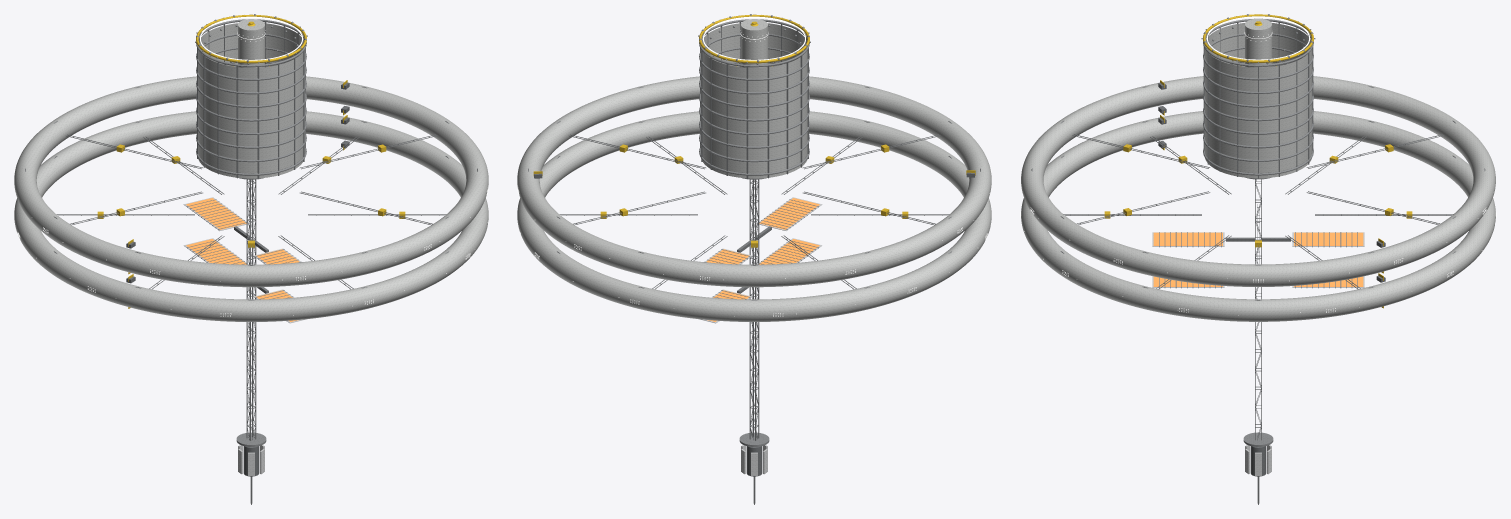
Rendered from meridian.glb.
The picture shows the model from 3 angles, left to right: view 1: azimuth 30°, elevation 25°; view 2: azimuth 150°, elevation 25°; view 3: azimuth 270°, elevation 25°; orthographic projection.
Visible parts, largest first — view 1: Meridian_Wheel, Meridian_Hub; view 2: Meridian_Wheel, Meridian_Hub; view 3: Meridian_Wheel, Meridian_Hub.
Part boxes in pixels (box(x1,y1,x2,y2)): Meridian_Wheel: box(14, 76, 488, 321); Meridian_Hub: box(183, 14, 307, 504); Meridian_Wheel: box(517, 76, 991, 321); Meridian_Hub: box(698, 14, 822, 504); Meridian_Wheel: box(1020, 76, 1496, 321); Meridian_Hub: box(1152, 14, 1364, 504).
Bounding box in the file's own units: 2106 × 2354 × 2106.
Materials: 15 (6 with a texture image).
